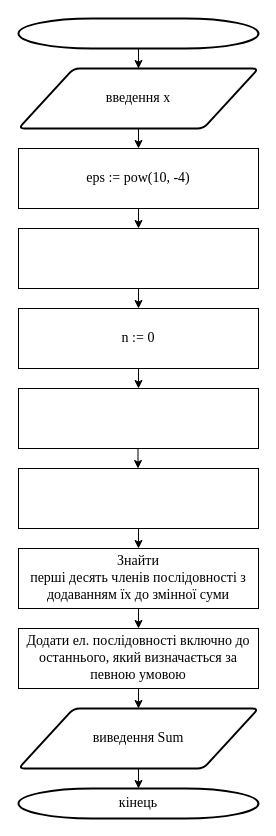
Image size: 276x836. Some labels were removed from this diagram. The shapes that lost their labels are listed below. From the top down, each one's centre as x and y in pixels, then its label:
the point at 138,33: початок
the point at 138,258: Sum := 0
the point at 138,418: a := 0
the point at 138,498: Перевірити введений користувачем параметр на достовірність умовам задачі
